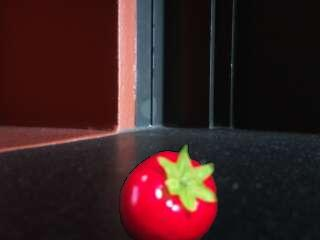Tomato: (118, 142, 218, 240)
